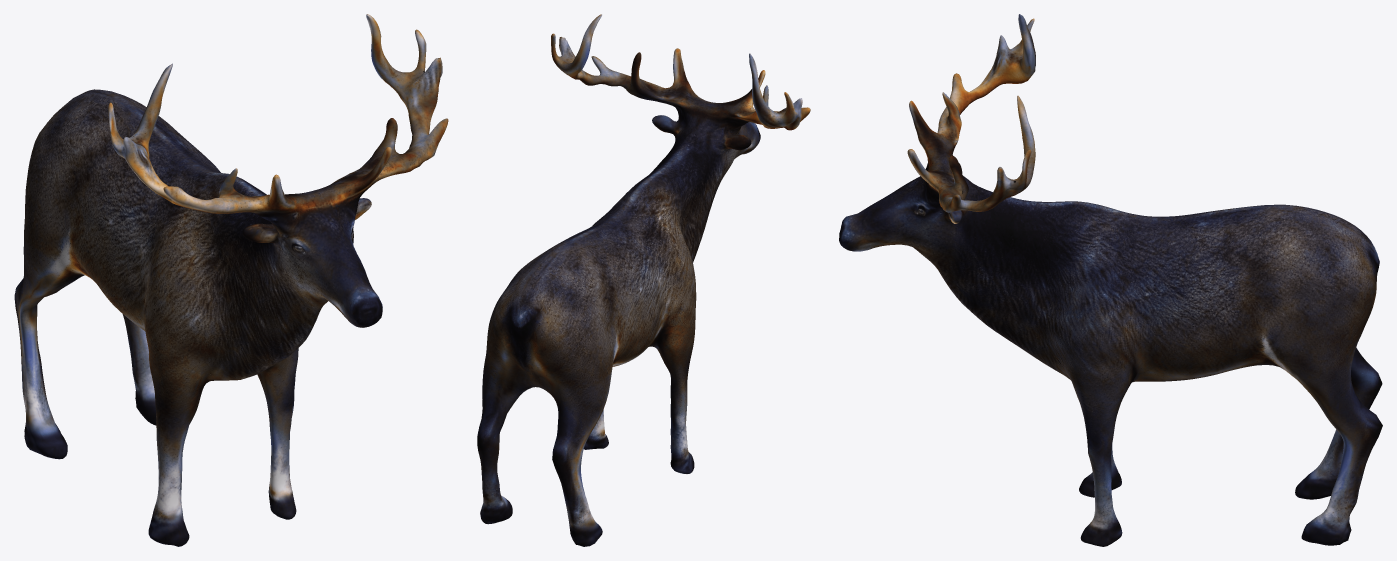
File: uploads_files_5014754_Elk_Quad.fbx
3 renders of one model, left to right at view 1: azimuth 30°, elevation 25°; view 2: azimuth 150°, elevation 25°; view 3: azimuth 270°, elevation 25°, orthographic. The views are drawn at different scales.
Parts seen in each view (by area): view 1: Elk_Quad; view 2: Elk_Quad; view 3: Elk_Quad.
Boxes of the visible parts, x1,y1,x2,y2 form: Elk_Quad: (14, 14, 448, 546); Elk_Quad: (477, 14, 810, 546); Elk_Quad: (839, 14, 1382, 546).
Bounding box in the file's own units: 122 × 191 × 203.
